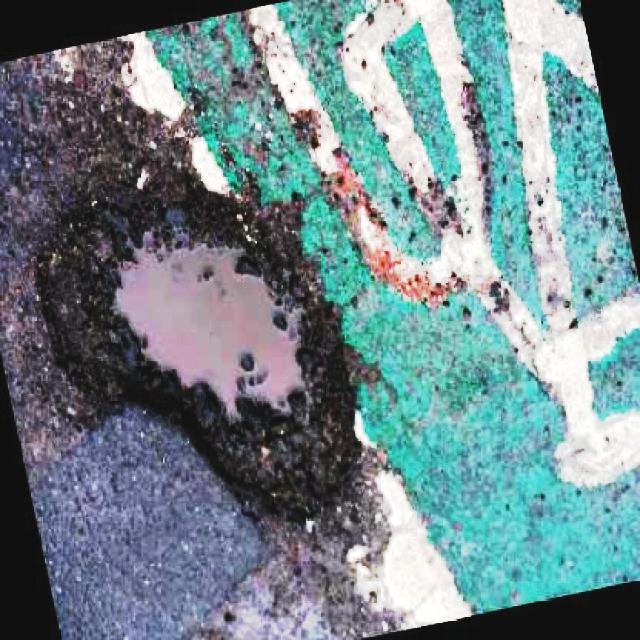pothole: (32, 174, 378, 531)
